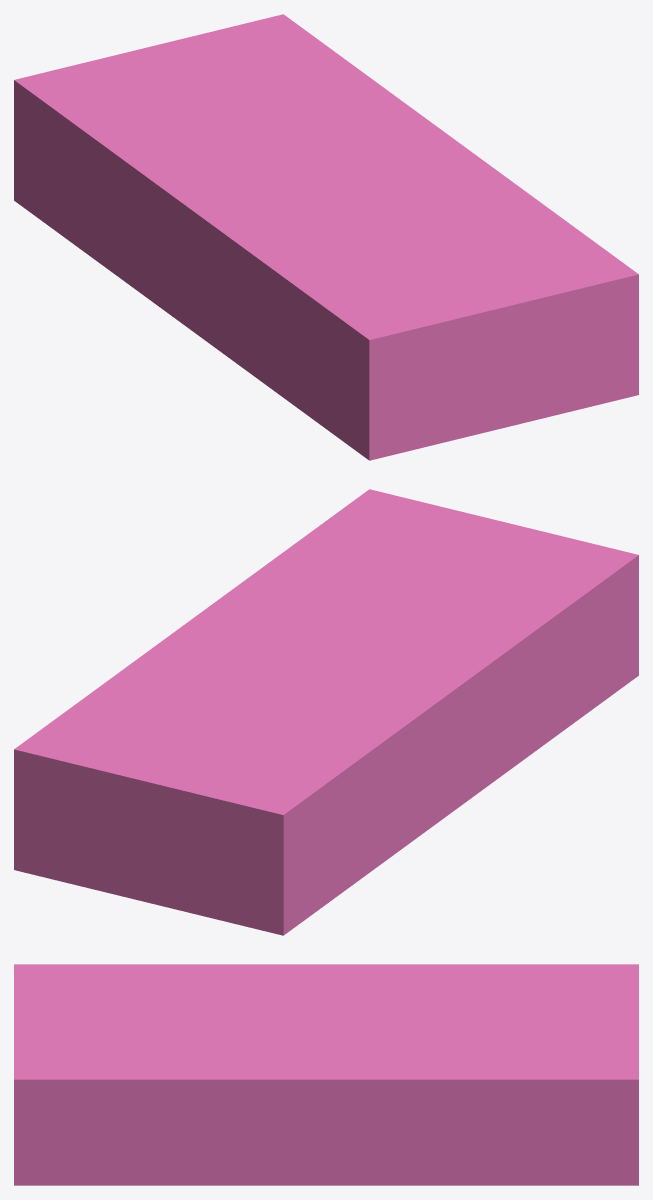
File: Jabon01.fbx
The picture shows the model from 3 angles, top to bottom: view 1: azimuth 30°, elevation 25°; view 2: azimuth 150°, elevation 25°; view 3: azimuth 270°, elevation 25°; orthographic projection. The views are drawn at different scales.
Visible parts, largest first — view 1: Jabon01; view 2: Jabon01; view 3: Jabon01.
Part boxes in pixels (x1,y1,x2,y2): Jabon01: [14, 14, 638, 460]; Jabon01: [14, 489, 638, 935]; Jabon01: [14, 964, 638, 1185].
Size of the model in its own units: 5.89 by 2.52 by 13.47.
